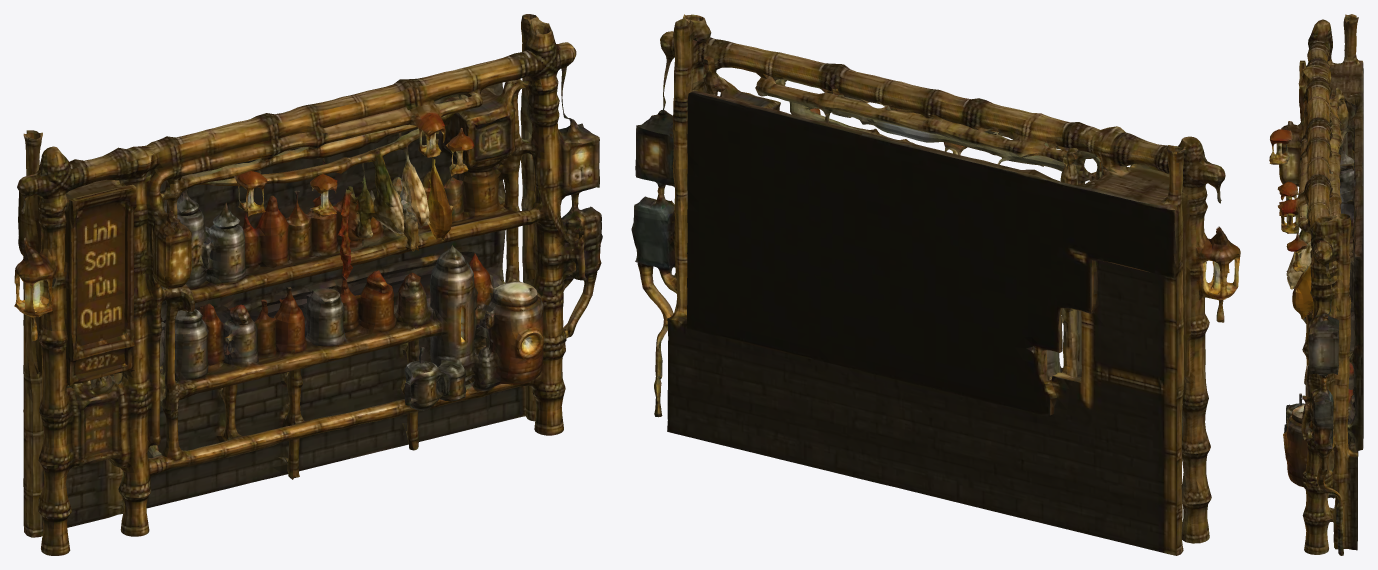
Rendered from Tavern_Linh_Son_Tu_Quan_Apot_2.glb.
The picture shows the model from 3 angles, left to right: view 1: azimuth 30°, elevation 25°; view 2: azimuth 150°, elevation 25°; view 3: azimuth 270°, elevation 25°; orthographic projection. The views are drawn at different scales.
Size of the model in its own units: 1.91 by 1.25 by 0.3205.
1 material, 1 textured.
